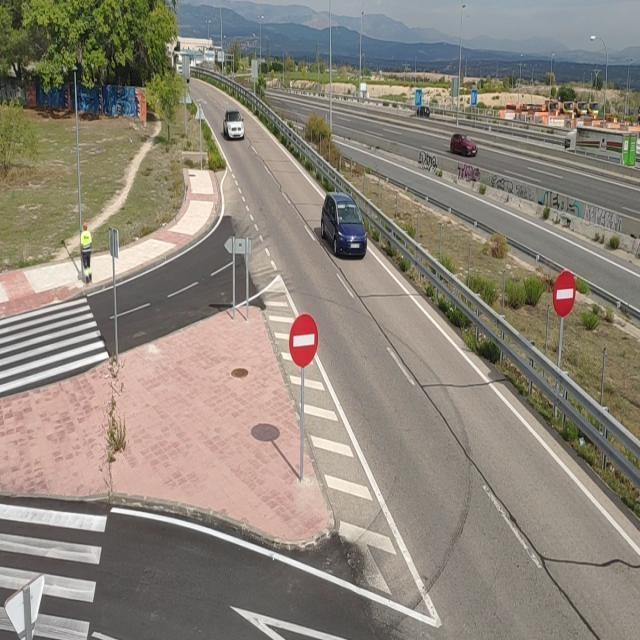Car: (319, 190, 366, 258), (221, 106, 248, 141), (450, 132, 480, 157)
